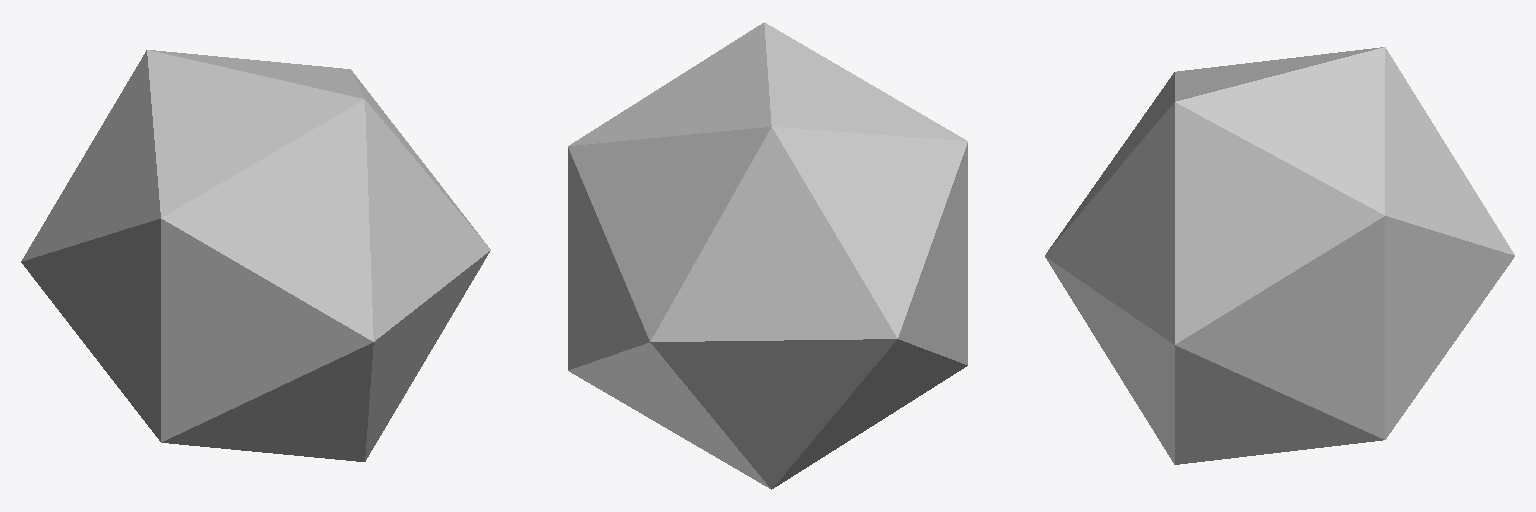
File: Objeto10.obj
The picture shows the model from 3 angles: view 1: azimuth 30°, elevation 25°; view 2: azimuth 150°, elevation 25°; view 3: azimuth 270°, elevation 25°; orthographic projection.
Parts seen in each view (by area): view 1: polySurface38 estante:pCylinder5; view 2: polySurface38 estante:pCylinder5; view 3: polySurface38 estante:pCylinder5.
Boxes of the visible parts, <box> form: polySurface38 estante:pCylinder5: <box>21,50,490,461</box>; polySurface38 estante:pCylinder5: <box>568,22,967,489</box>; polySurface38 estante:pCylinder5: <box>1045,47,1514,464</box>.
Bounding box in the file's own units: 0.2185 × 0.2078 × 0.2443.